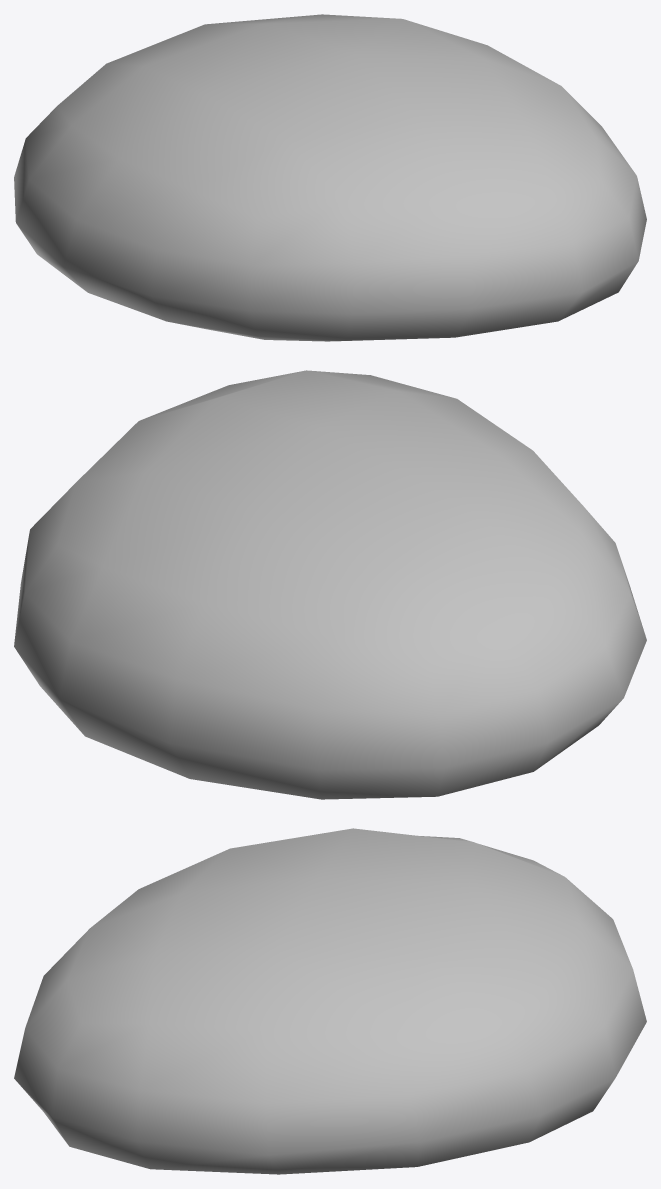
The model's file is Pebble_2b.gltf.
3 renders of one model, top to bottom at view 1: azimuth 30°, elevation 25°; view 2: azimuth 150°, elevation 25°; view 3: azimuth 270°, elevation 25°, orthographic. The views are drawn at different scales.
Parts seen in each view (by area): view 1: Pebble_2b; view 2: Pebble_2b; view 3: Pebble_2b.
Boxes of the visible parts, left/top/right/bottom form: Pebble_2b: left=14, top=14, right=646, bottom=341; Pebble_2b: left=14, top=370, right=646, bottom=799; Pebble_2b: left=14, top=828, right=646, bottom=1174.
Size of the model in its own units: 38.8 by 16.23 by 39.98.
1 material, 1 textured.
